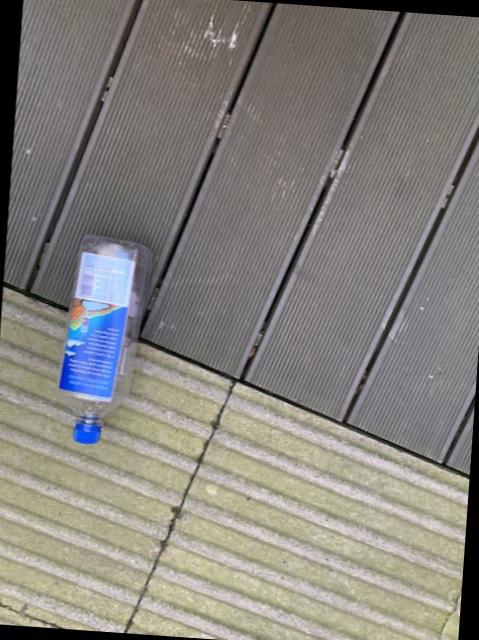plastic: (56, 233, 149, 441)
